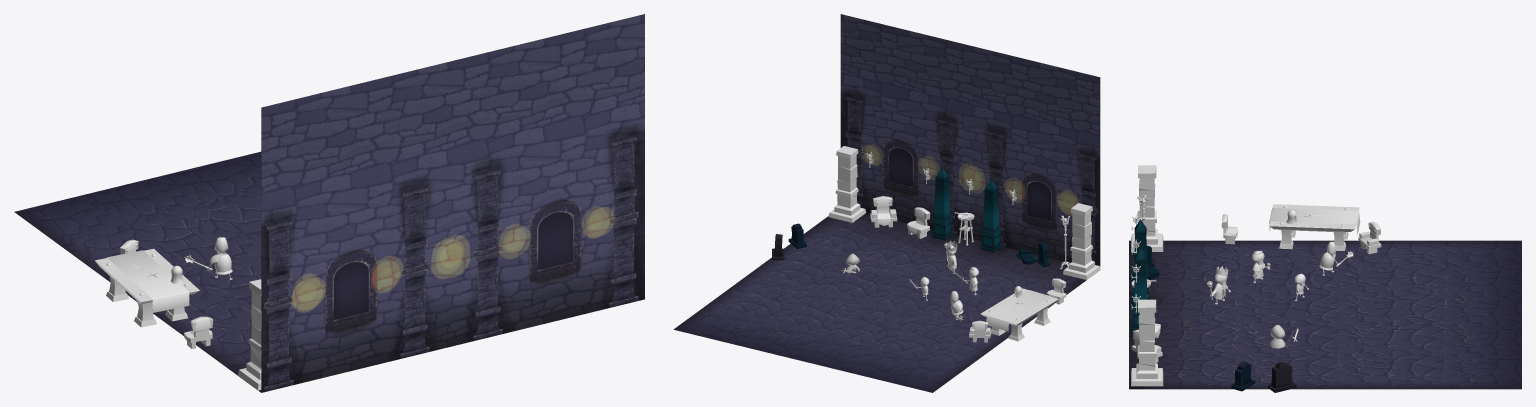
Rendered from test_mockup(3).FBX.
3 renders of one model, left to right at view 1: azimuth 30°, elevation 25°; view 2: azimuth 150°, elevation 25°; view 3: azimuth 270°, elevation 25°, orthographic. The views are drawn at different scales.
Parts seen in each view (by area): view 1: Plane041, Plane001, Plane043, pillar004, Box016; view 2: Plane041, Plane001, pillar004, pillar02, pillar01, pillar003, Plane043, Box016; view 3: Plane001, pillar02, pillar004, Plane043, Box016, pillar01, gravestone04, pillar003, gravestone03, Box025.
Part boxes in pixels (bbox=[...]): Plane041: bbox=[261, 14, 644, 392]; Plane001: bbox=[14, 151, 261, 392]; Plane043: bbox=[106, 250, 189, 312]; pillar004: bbox=[237, 279, 261, 390]; Box016: bbox=[95, 248, 199, 304]; Plane041: bbox=[840, 14, 1100, 266]; Plane001: bbox=[673, 213, 1086, 392]; pillar004: bbox=[1063, 203, 1100, 279]; pillar02: bbox=[828, 146, 866, 222]; pillar01: bbox=[931, 168, 952, 240]; pillar003: bbox=[980, 180, 1001, 251]; Plane043: bbox=[986, 290, 1051, 331]; Box016: bbox=[980, 288, 1058, 325]; Plane001: bbox=[1129, 240, 1521, 389]; pillar02: bbox=[1131, 299, 1163, 386]; pillar004: bbox=[1131, 165, 1163, 251]; Plane043: bbox=[1269, 208, 1360, 235]; Box016: bbox=[1269, 204, 1359, 232]; pillar01: bbox=[1132, 247, 1147, 331]; gravestone04: bbox=[1268, 362, 1296, 392]; pillar003: bbox=[1132, 219, 1149, 303]; gravestone03: bbox=[1231, 362, 1255, 391]; Box025: bbox=[1358, 222, 1381, 254].
Size of the model in its own units: 251 by 162 by 254.
